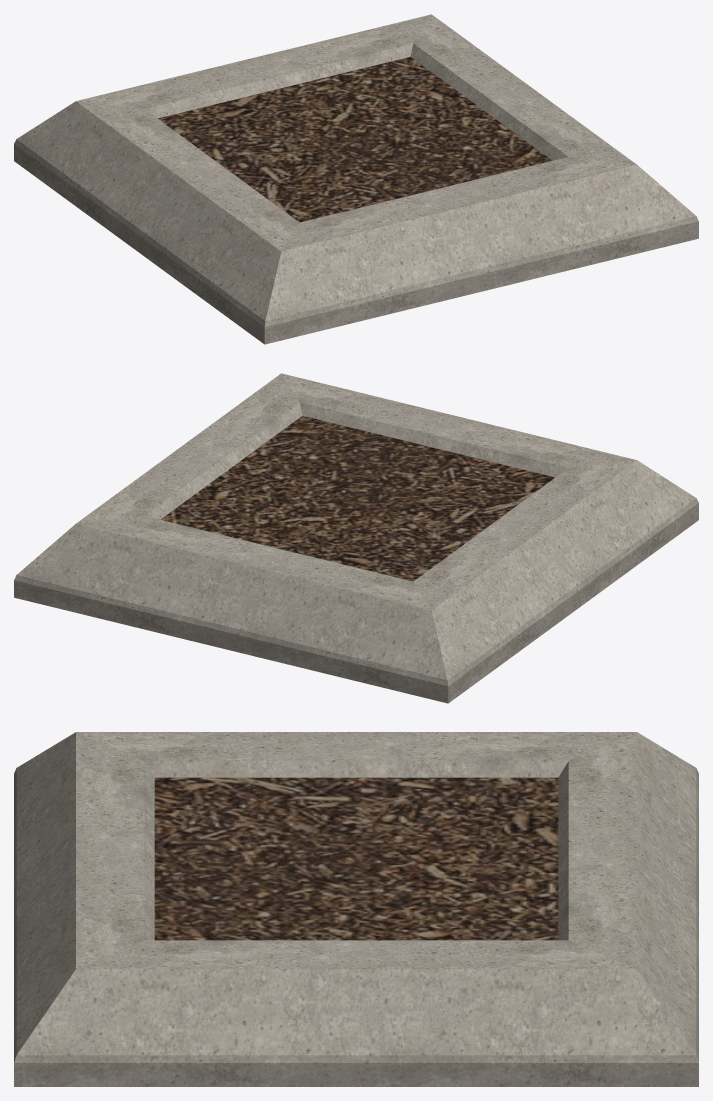
The model's file is flower_bed_i.FBX.
3 views of the same model, one above another, from view 1: azimuth 30°, elevation 25°; view 2: azimuth 150°, elevation 25°; view 3: azimuth 270°, elevation 25° (orthographic). The views are drawn at different scales.
Parts seen in each view (by area): view 1: flower_bed_i; view 2: flower_bed_i; view 3: flower_bed_i.
Boxes of the visible parts, x1,y1,x2,y2 form: flower_bed_i: (14, 14, 698, 344); flower_bed_i: (14, 373, 698, 703); flower_bed_i: (14, 732, 698, 1086).
Size of the model in its own units: 100 by 14.74 by 100.
